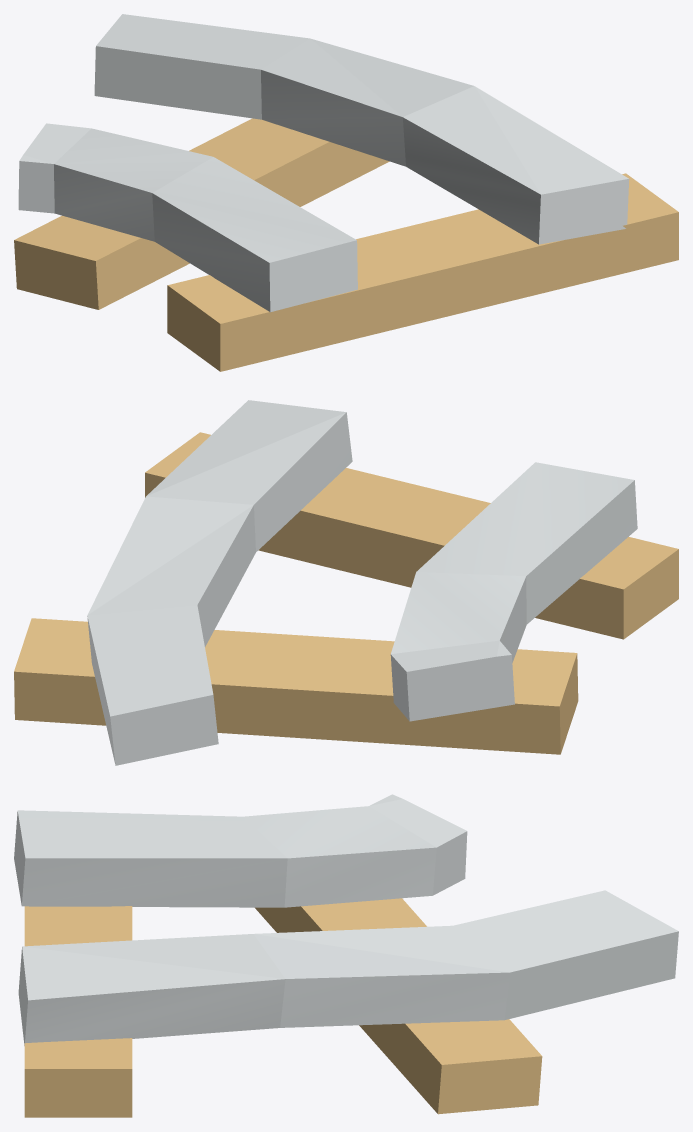
Rendered from trackLeft.fbx.
3 views of the same model, one above another, from view 1: azimuth 30°, elevation 25°; view 2: azimuth 150°, elevation 25°; view 3: azimuth 270°, elevation 25° (orthographic). The views are drawn at different scales.
Parts seen in each view (by area): view 1: trackCurved.001; view 2: trackCurved.001; view 3: trackCurved.001.
Part boxes in pixels (left/top/right/bottom): trackCurved.001: left=14, top=14, right=678, bottom=371; trackCurved.001: left=14, top=400, right=678, bottom=765; trackCurved.001: left=14, top=794, right=678, bottom=1117.
Size of the model in its own units: 11.01 by 2.61 by 12.33.
